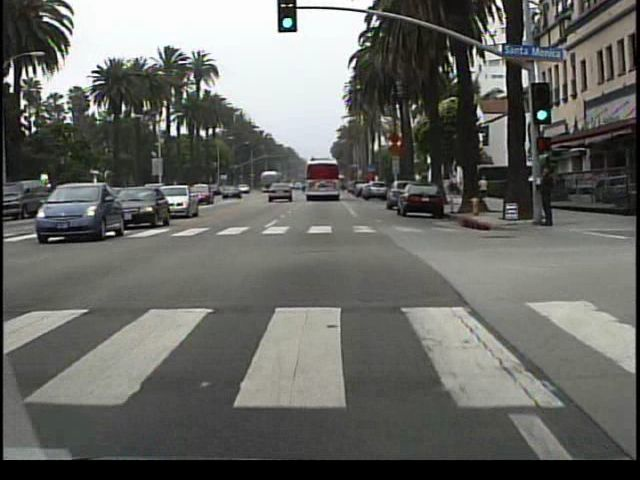person: (534, 160, 555, 230)
